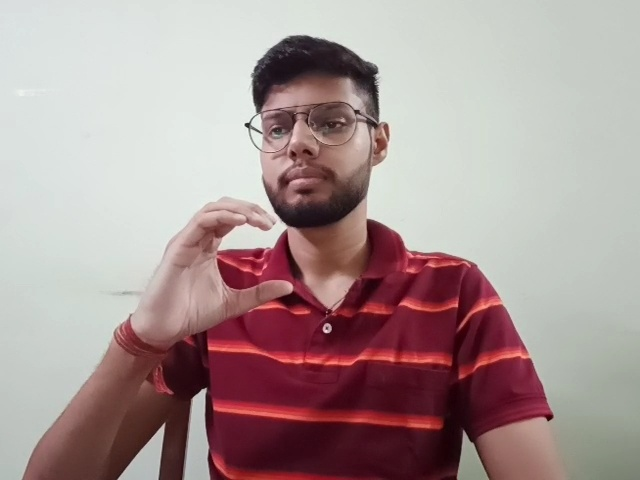C: (137, 196, 294, 352)
